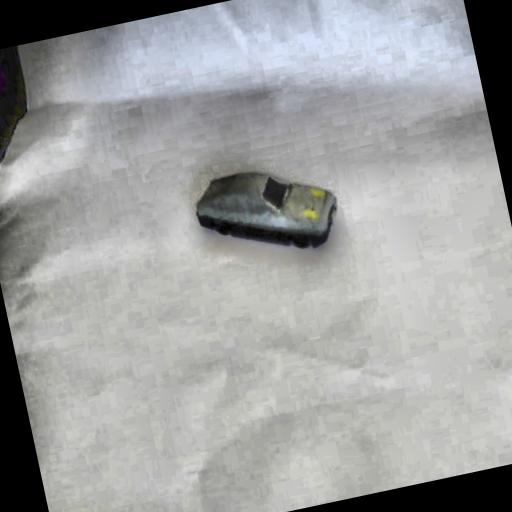normal_car: (186, 150, 347, 272)
